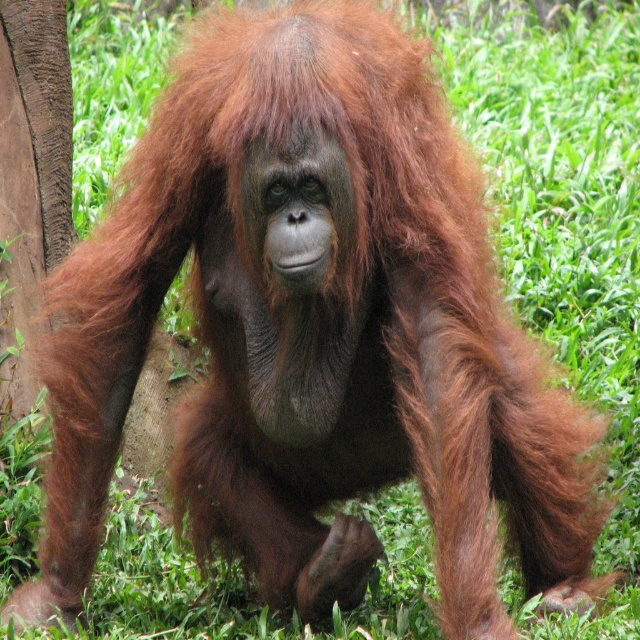Monkey: (0, 0, 633, 640)
